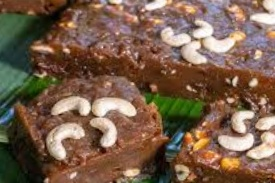dodol: (26, 0, 275, 113), (3, 68, 169, 183), (167, 95, 275, 183), (0, 0, 68, 19)
